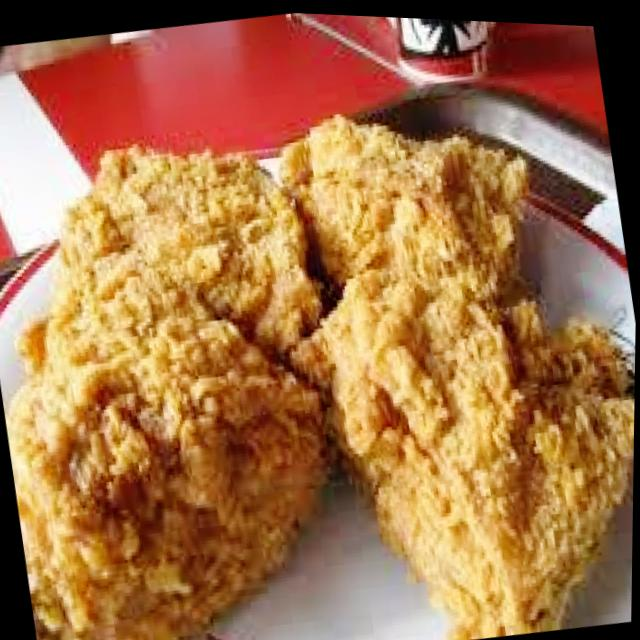fried_chicken: (289, 157, 638, 640), (0, 221, 355, 640), (0, 109, 330, 406), (272, 73, 556, 338)
